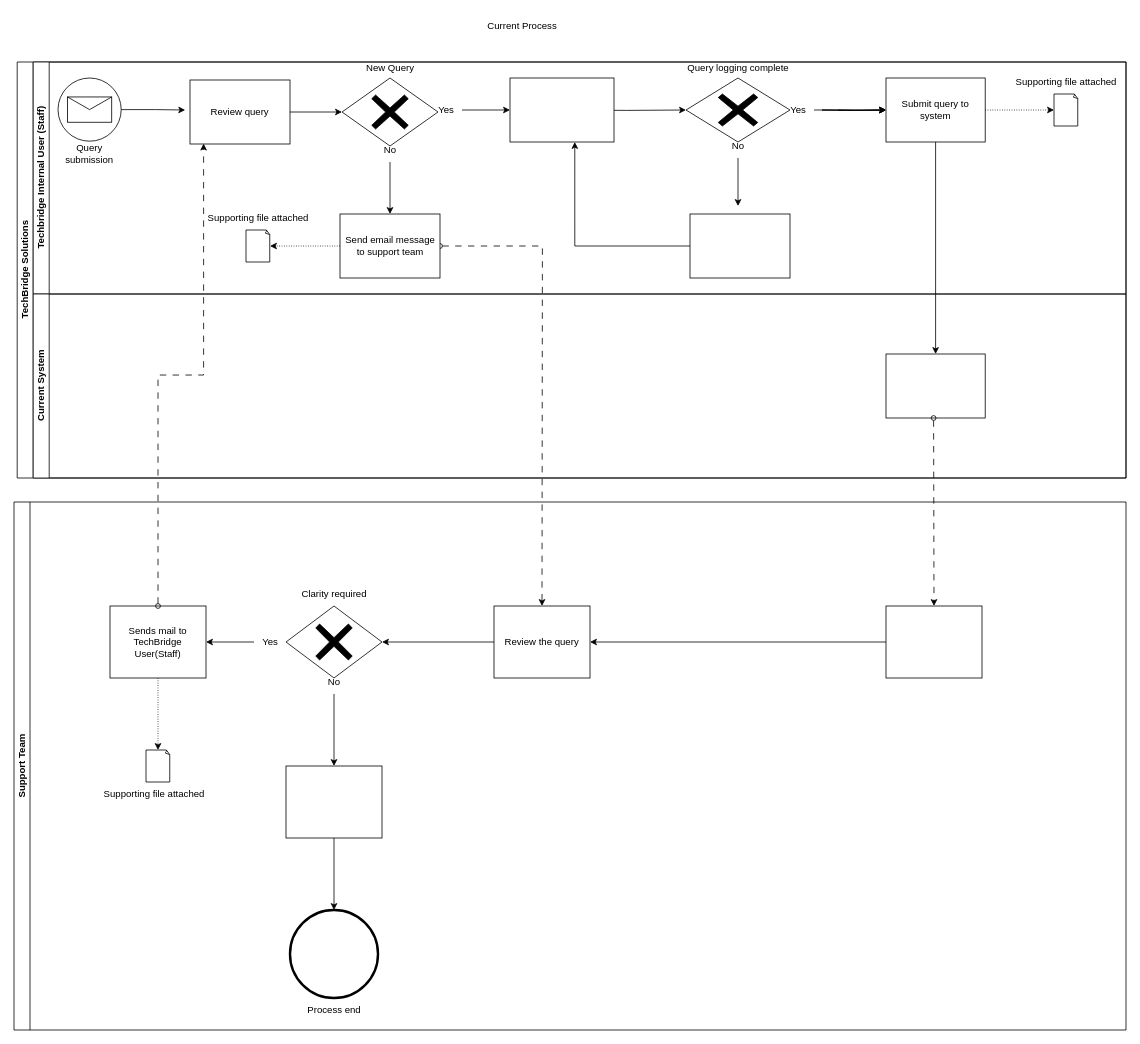
Some shapes in this 1140 by 1044 pixel diagram are drawn without their labels. The centre of each missing label's shape, as x and y in pixels:
Check and update query: point (739, 245)
Creates a formal query request to support team: point (935, 385)
Logging a query: point (561, 109)
Receive the query request: point (933, 641)
Resolves the query: point (333, 801)
